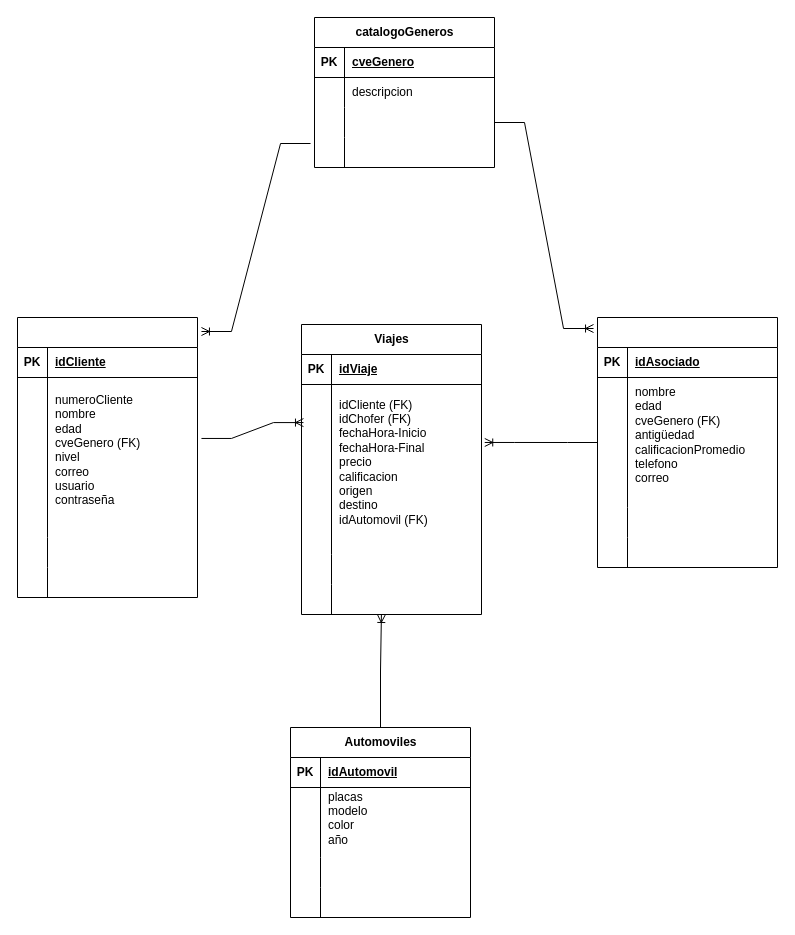
Image size: 795x935. Some labels were removed from this diagram. Here are the shapes that lost their labels. From the top down, the box of each, then its label:
(16, 316, 198, 598): Clientes
(596, 316, 778, 568): Asociados
